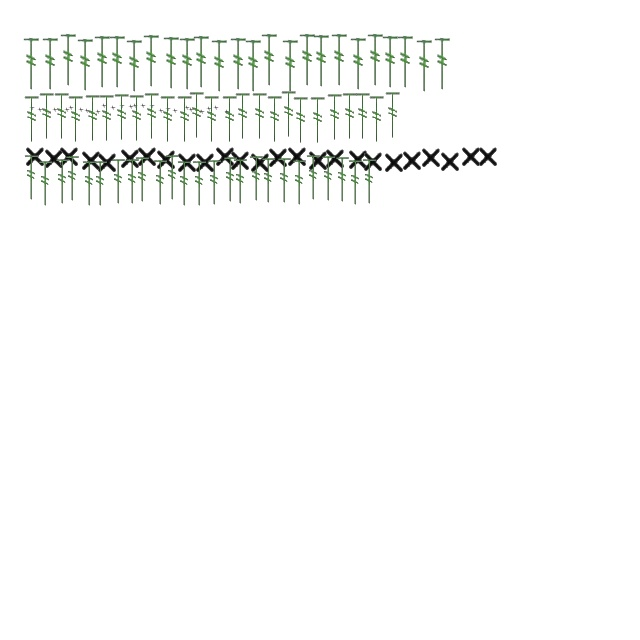double: (24, 144, 46, 168), (43, 146, 65, 170), (58, 144, 80, 168), (80, 148, 102, 172), (96, 150, 118, 174), (119, 146, 141, 170), (136, 144, 158, 168), (155, 147, 177, 171), (176, 150, 198, 174), (194, 150, 216, 174), (214, 144, 236, 168), (229, 148, 251, 172), (249, 150, 271, 174), (267, 145, 289, 169), (286, 144, 308, 168), (307, 148, 329, 172), (324, 146, 346, 170), (347, 147, 369, 171), (362, 149, 384, 173), (383, 150, 405, 174), (401, 148, 423, 172), (420, 145, 442, 169), (439, 149, 461, 173), (460, 144, 482, 168), (477, 144, 499, 168), (84, 108, 90, 114), (128, 104, 134, 110), (158, 108, 164, 114), (165, 106, 171, 112), (172, 108, 178, 114), (206, 106, 212, 112), (29, 106, 35, 110), (37, 108, 43, 112), (45, 110, 51, 114), (52, 108, 58, 112), (64, 108, 70, 112), (68, 106, 74, 110), (78, 108, 84, 112), (95, 110, 101, 114), (101, 104, 107, 108), (110, 106, 116, 110), (119, 104, 125, 108), (132, 104, 138, 108), (140, 104, 146, 108), (149, 104, 155, 108), (184, 106, 190, 110), (188, 108, 194, 112), (199, 110, 205, 114), (213, 106, 219, 110), (224, 110, 230, 114)
fan: (22, 37, 40, 91), (41, 37, 59, 91), (59, 33, 77, 87), (76, 38, 94, 92), (93, 35, 111, 89), (108, 35, 126, 89), (125, 39, 143, 93), (142, 34, 160, 88), (162, 36, 180, 90), (178, 37, 196, 91), (192, 35, 210, 89), (210, 39, 228, 93), (229, 37, 247, 91), (244, 39, 262, 93), (260, 33, 278, 87), (281, 39, 299, 93), (298, 33, 316, 87), (312, 34, 330, 88), (330, 33, 348, 87), (349, 37, 367, 91), (366, 33, 384, 87), (381, 35, 399, 89), (396, 35, 414, 89), (415, 39, 433, 93), (433, 37, 451, 91), (64, 154, 82, 204), (152, 158, 170, 208), (206, 158, 224, 208), (248, 154, 266, 204), (260, 156, 278, 206), (276, 156, 294, 206), (320, 154, 338, 204), (23, 95, 41, 143), (38, 92, 56, 140), (53, 92, 71, 140), (67, 95, 85, 143), (84, 94, 102, 142), (98, 94, 116, 142), (113, 93, 131, 141), (128, 94, 146, 142), (143, 92, 161, 140), (159, 95, 177, 143), (176, 95, 194, 143), (188, 91, 206, 139), (203, 95, 221, 143), (221, 95, 239, 143), (234, 92, 252, 140), (251, 92, 269, 140), (266, 95, 284, 143), (280, 90, 298, 138), (292, 96, 310, 144), (309, 96, 327, 144), (326, 93, 344, 141), (341, 92, 359, 140), (354, 92, 372, 140), (368, 95, 386, 143), (384, 91, 402, 139), (54, 158, 72, 206), (92, 160, 110, 208), (110, 158, 128, 206), (124, 158, 142, 206), (134, 156, 152, 204), (164, 154, 182, 202), (176, 160, 194, 208), (222, 156, 240, 204), (232, 158, 250, 206), (334, 156, 352, 204), (292, 158, 308, 208), (348, 158, 364, 208), (24, 154, 40, 202), (38, 160, 54, 208), (82, 160, 98, 208), (192, 160, 208, 208), (306, 154, 322, 202), (362, 158, 378, 206)
